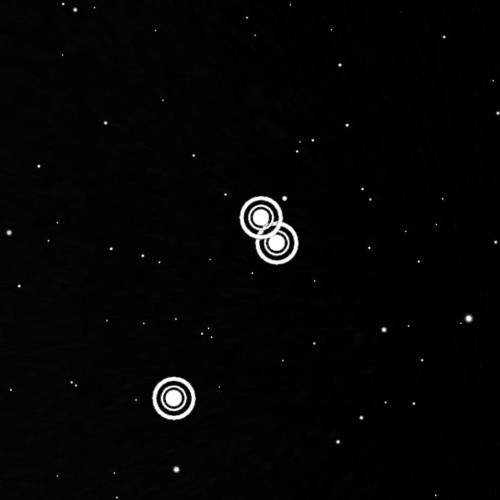canis_minor: (143, 190, 307, 428)
